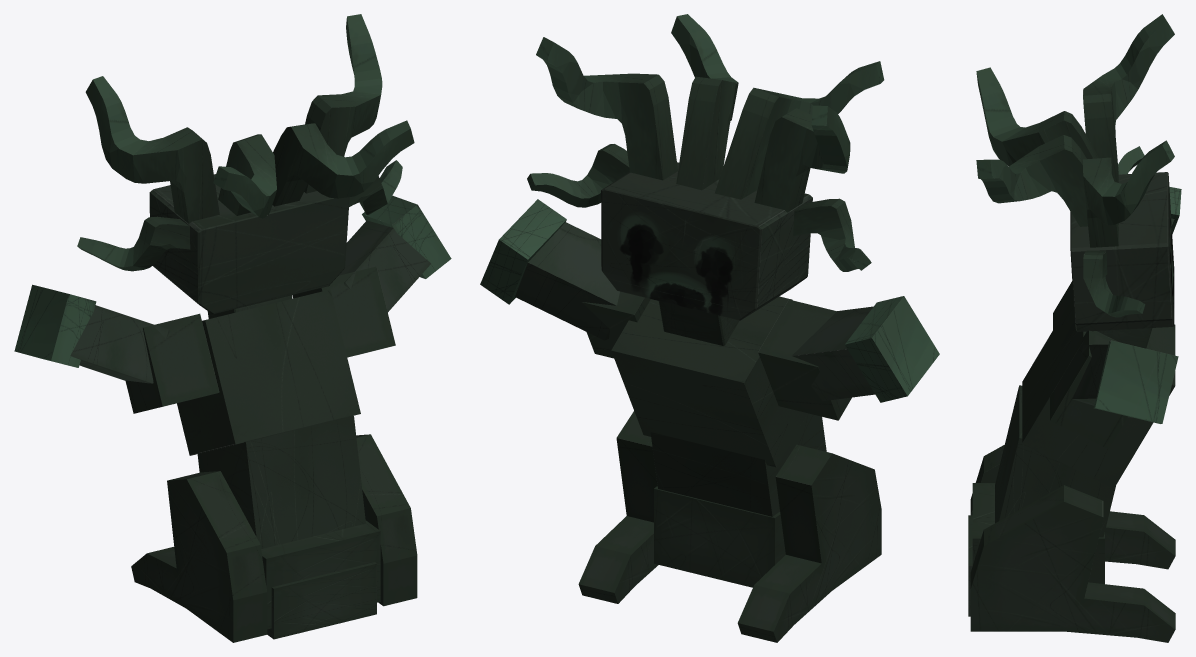
File: enemy animation.fbx
3 views of the same model, side by side, from view 1: azimuth 30°, elevation 25°; view 2: azimuth 150°, elevation 25°; view 3: azimuth 270°, elevation 25° (orthographic). The views are drawn at different scales.
Visible parts, largest first — view 1: Cube.012, Cube.005, Cube.006, Cube.020, Cube.002, Cube.008; view 2: Cube.012, Cube.005, Cube.006, Cube.020, Cube.008, Cube.002; view 3: Cube.012, Cube.005, Cube.008, Cube.006, Cube.002, Cube.020.
Part boxes in pixels (x1=…): Cube.012: x1=77, y1=14, x2=414, y2=318; Cube.005: x1=131, y1=434, x2=417, y2=642; Cube.006: x1=177, y1=289, x2=360, y2=455; Cube.020: x1=14, y1=284, x2=219, y2=413; Cube.002: x1=197, y1=415, x2=365, y2=548; Cube.008: x1=292, y1=195, x2=451, y2=357; Cube.012: x1=527, y1=14, x2=884, y2=345; Cube.005: x1=578, y1=411, x2=881, y2=642; Cube.006: x1=611, y1=296, x2=807, y2=467; Cube.020: x1=758, y1=296, x2=939, y2=420; Cube.008: x1=480, y1=199, x2=650, y2=358; Cube.002: x1=650, y1=413, x2=826, y2=516; Cube.012: x1=976, y1=14, x2=1174, y2=348; Cube.005: x1=968, y1=445, x2=1175, y2=642; Cube.008: x1=1050, y1=330, x2=1178, y2=449; Cube.006: x1=1022, y1=297, x2=1175, y2=487; Cube.002: x1=995, y1=385, x2=1115, y2=537; Cube.020: x1=1053, y1=186, x2=1181, y2=329.
Size of the model in its own units: 284 by 346 by 129.
10 materials, 10 textured.
